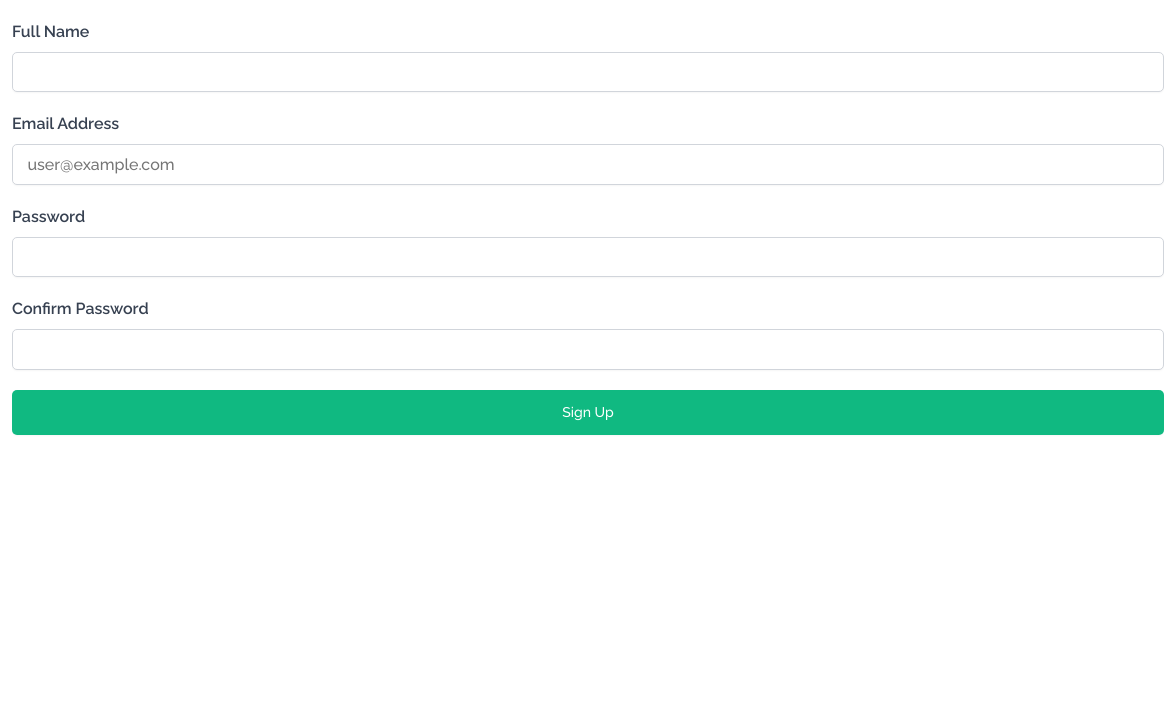
Test: CreateUserForm › should show error message if invalid email is provided
The image size is (1176, 720).
Type "test@" into the field labelled "Email Address".
click(588, 165); type("test@")  # box [12,144,1164,185]
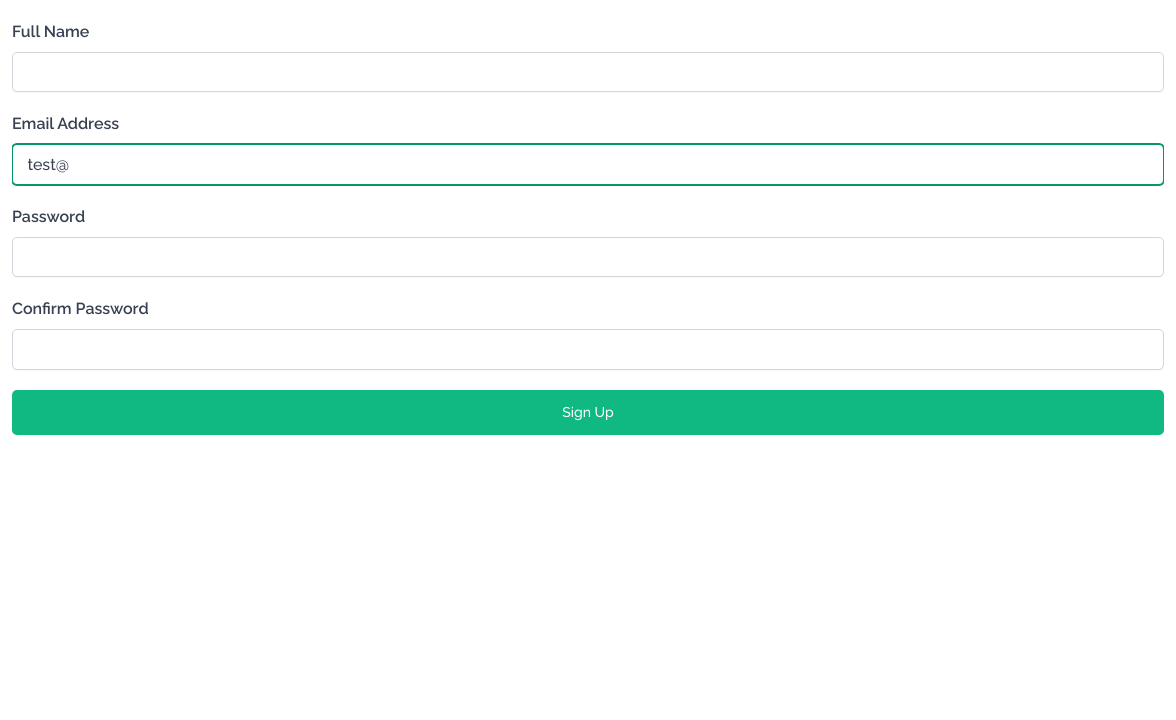
Click the button "Sign Up".
click(588, 412)  # box [12,390,1164,434]
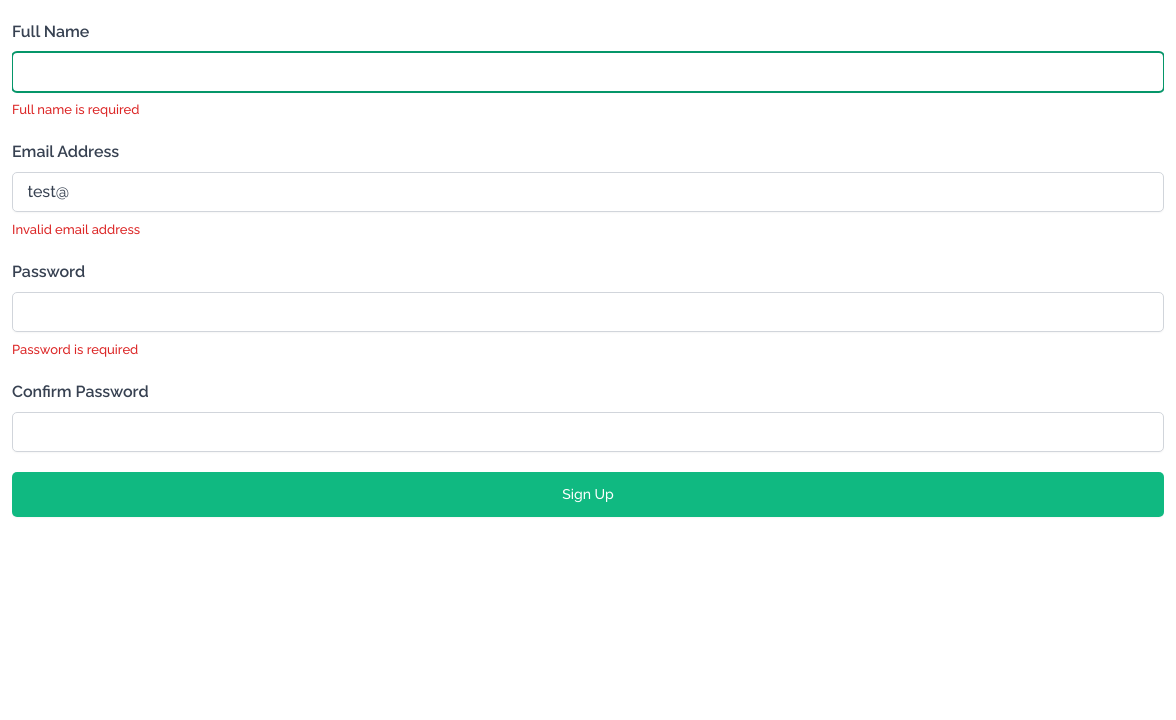
Check: the text "Invalid email address" is shown, box [12,222,140,237]
